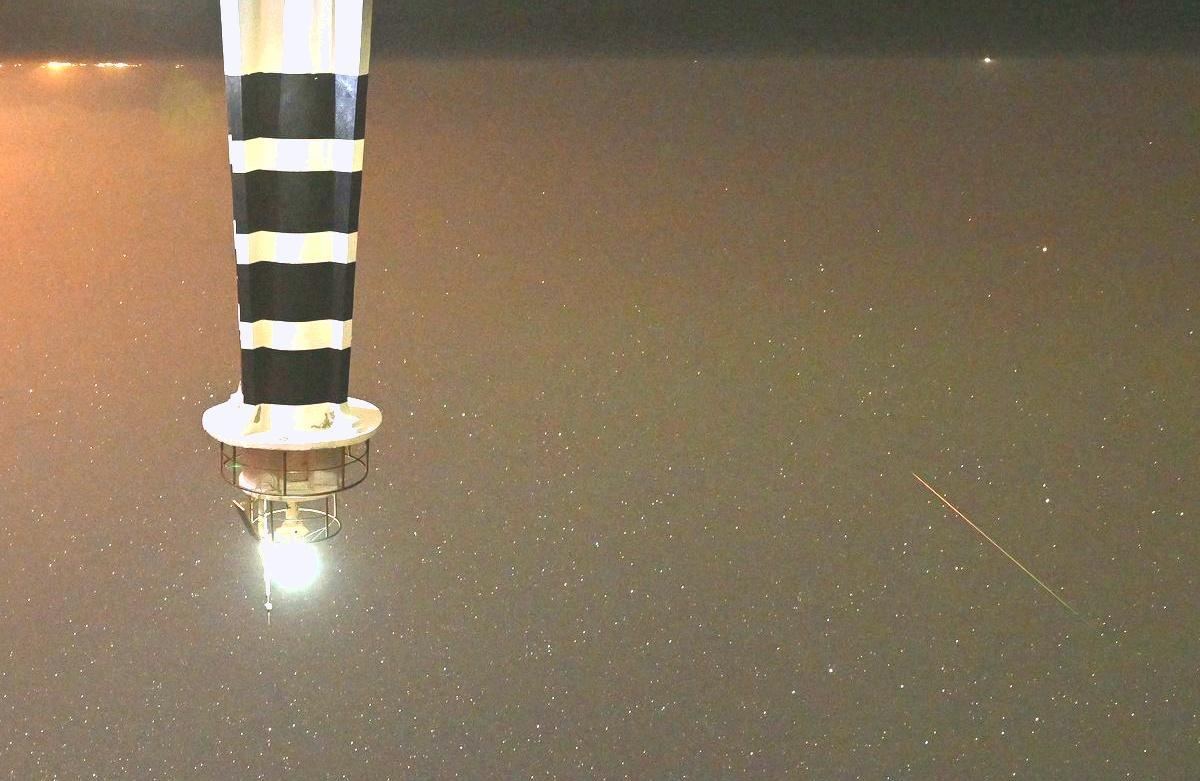meteorite: (885, 457, 1081, 619)
